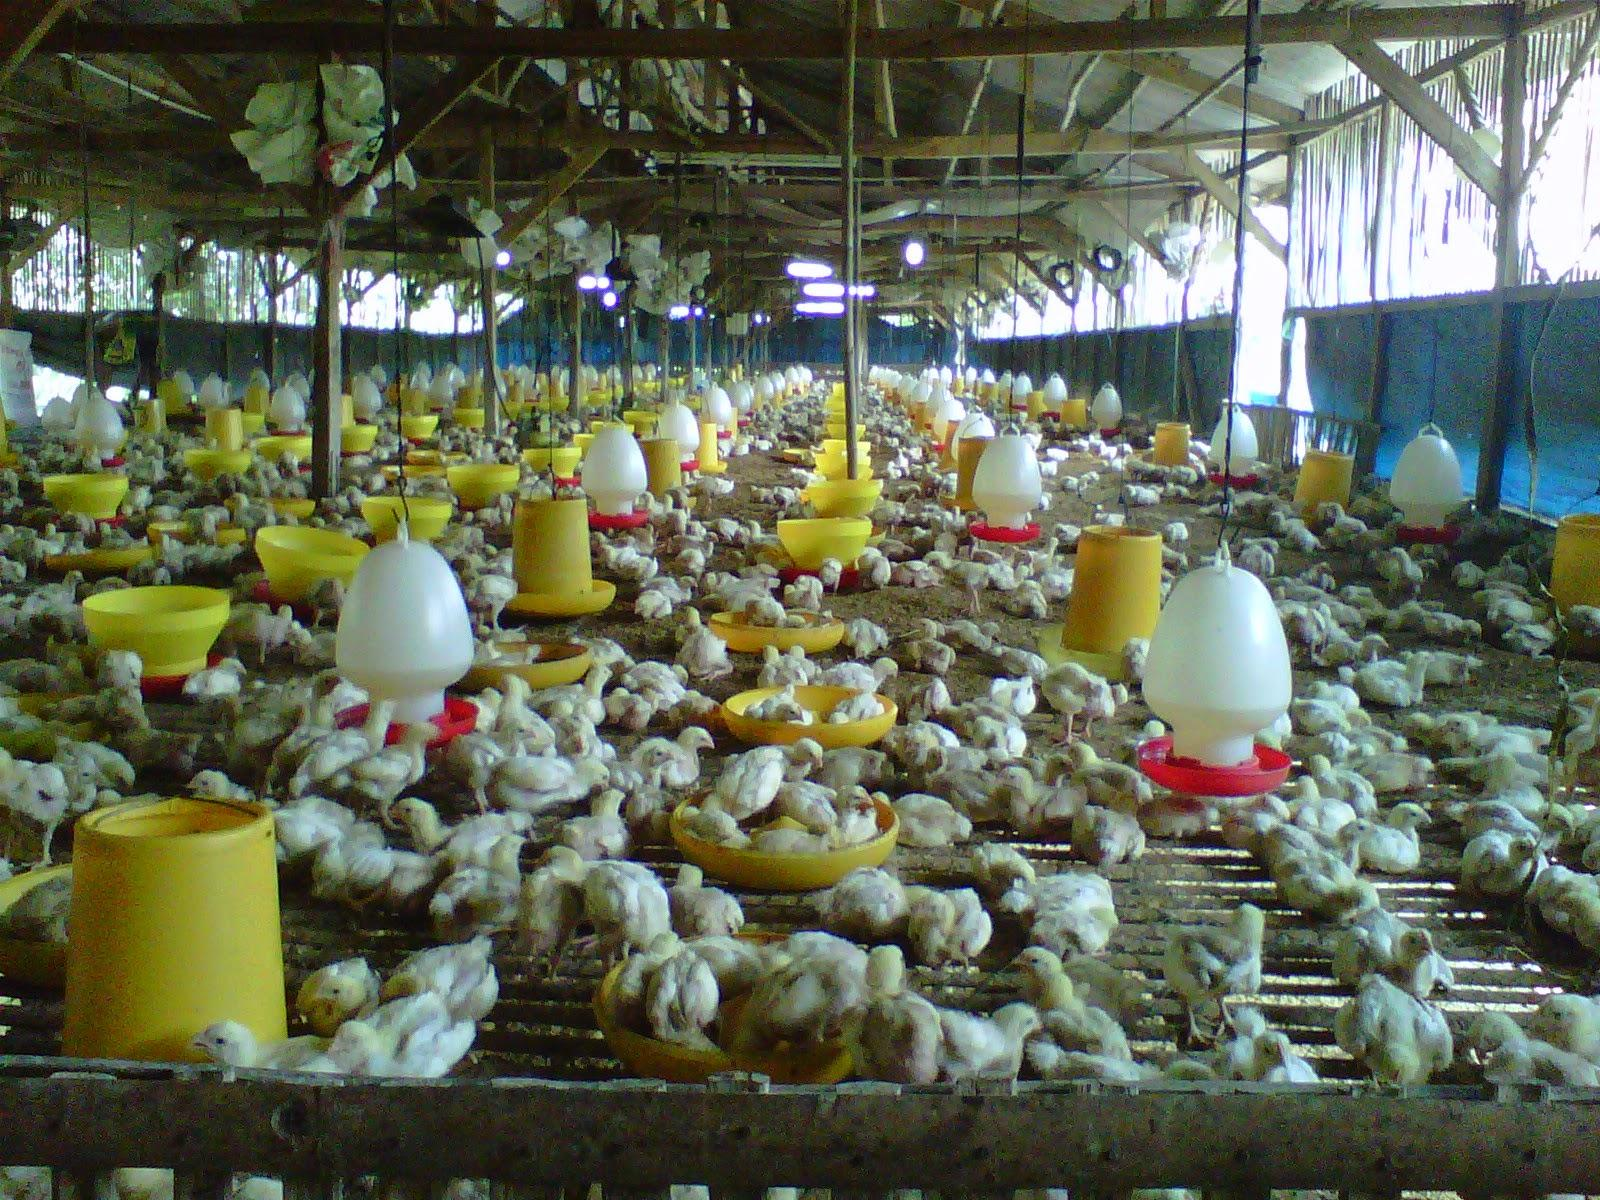chicken: (1340, 963, 1453, 1095), (1169, 905, 1270, 1041), (848, 942, 941, 1080), (387, 930, 503, 1018), (1333, 906, 1448, 992), (336, 720, 441, 812), (1004, 870, 1119, 953), (432, 833, 528, 932), (299, 697, 398, 790), (942, 995, 1047, 1080), (635, 945, 722, 1042), (760, 784, 874, 852), (523, 839, 582, 969), (726, 737, 826, 807), (1460, 1008, 1552, 1083), (498, 756, 611, 814), (295, 955, 373, 1035), (806, 870, 911, 929), (1266, 818, 1374, 874), (668, 863, 742, 932), (1458, 833, 1534, 899), (1071, 803, 1146, 868), (631, 726, 716, 783), (1366, 803, 1435, 870), (568, 785, 630, 855), (1311, 753, 1377, 816), (969, 837, 1034, 890), (1288, 779, 1352, 832), (1542, 992, 1600, 1047), (626, 745, 671, 807)
